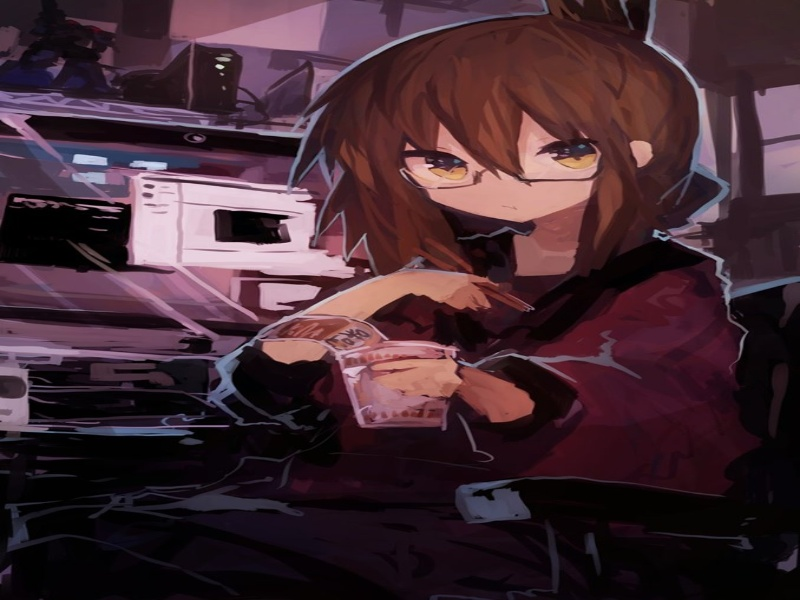person: (355, 33, 689, 248)
